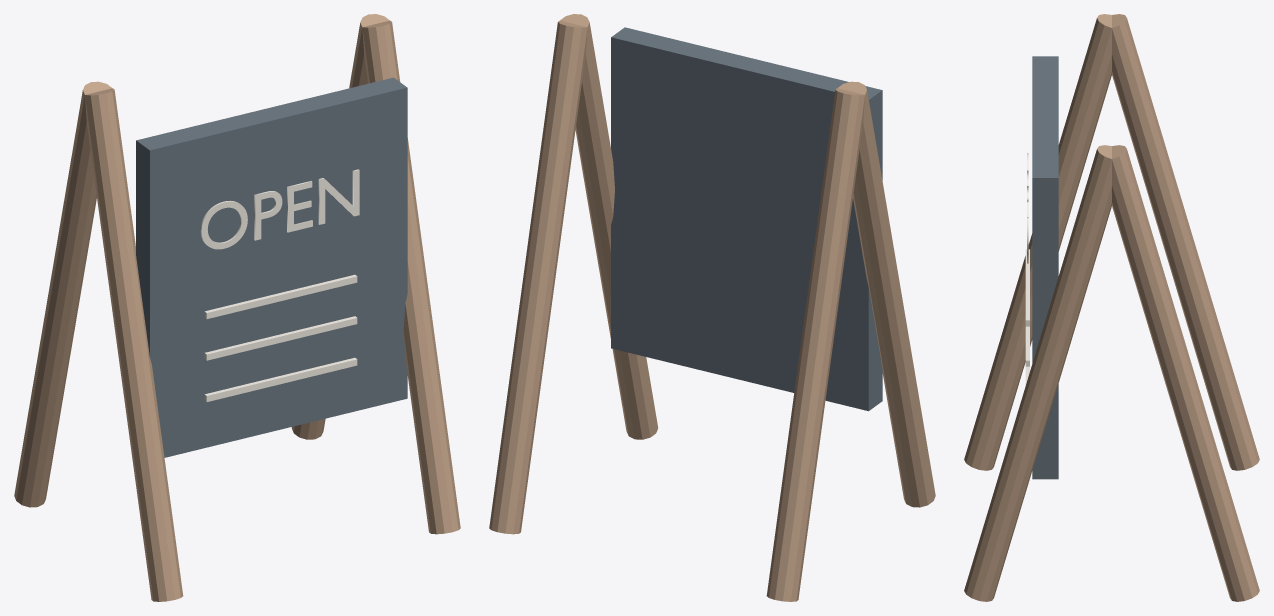
File: a_frame.glb
The picture shows the model from 3 angles, left to right: view 1: azimuth 30°, elevation 25°; view 2: azimuth 150°, elevation 25°; view 3: azimuth 270°, elevation 25°; orthographic projection. The views are drawn at different scales.
Parts seen in each view (by area): view 1: a_frame_004, a_frame_000, a_frame_002, a_frame_001, a_frame_005, a_frame_003, a_frame_008, a_frame_006, a_frame_007; view 2: a_frame_004, a_frame_003, a_frame_002, a_frame_000, a_frame_001; view 3: a_frame_002, a_frame_001, a_frame_003, a_frame_000, a_frame_004.
Part boxes in pixels (x1,y1,x2,y2): a_frame_004: (136, 77, 407, 457); a_frame_000: (85, 88, 183, 601); a_frame_002: (14, 81, 112, 507); a_frame_001: (362, 20, 460, 534); a_frame_005: (200, 169, 359, 249); a_frame_003: (291, 14, 389, 439); a_frame_008: (204, 274, 357, 318); a_frame_006: (204, 357, 357, 401); a_frame_007: (204, 316, 357, 360); a_frame_004: (611, 27, 882, 411); a_frame_003: (489, 20, 587, 534); a_frame_002: (766, 88, 864, 601); a_frame_000: (837, 81, 935, 507); a_frame_001: (560, 14, 658, 439); a_frame_002: (1112, 14, 1259, 470); a_frame_001: (964, 145, 1111, 601); a_frame_003: (1112, 145, 1259, 601); a_frame_000: (964, 14, 1111, 470); a_frame_004: (1032, 56, 1058, 479).
Bounding box in the file's own units: 0.77 × 1.12 × 0.6675.
